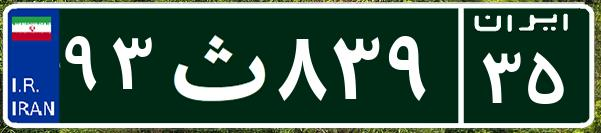3: (330, 28, 385, 110), (475, 38, 525, 113), (110, 28, 158, 105)
5: (525, 38, 570, 115)
8: (273, 28, 330, 110)
9: (385, 28, 445, 110), (57, 26, 110, 107)
ث: (158, 15, 273, 115)
